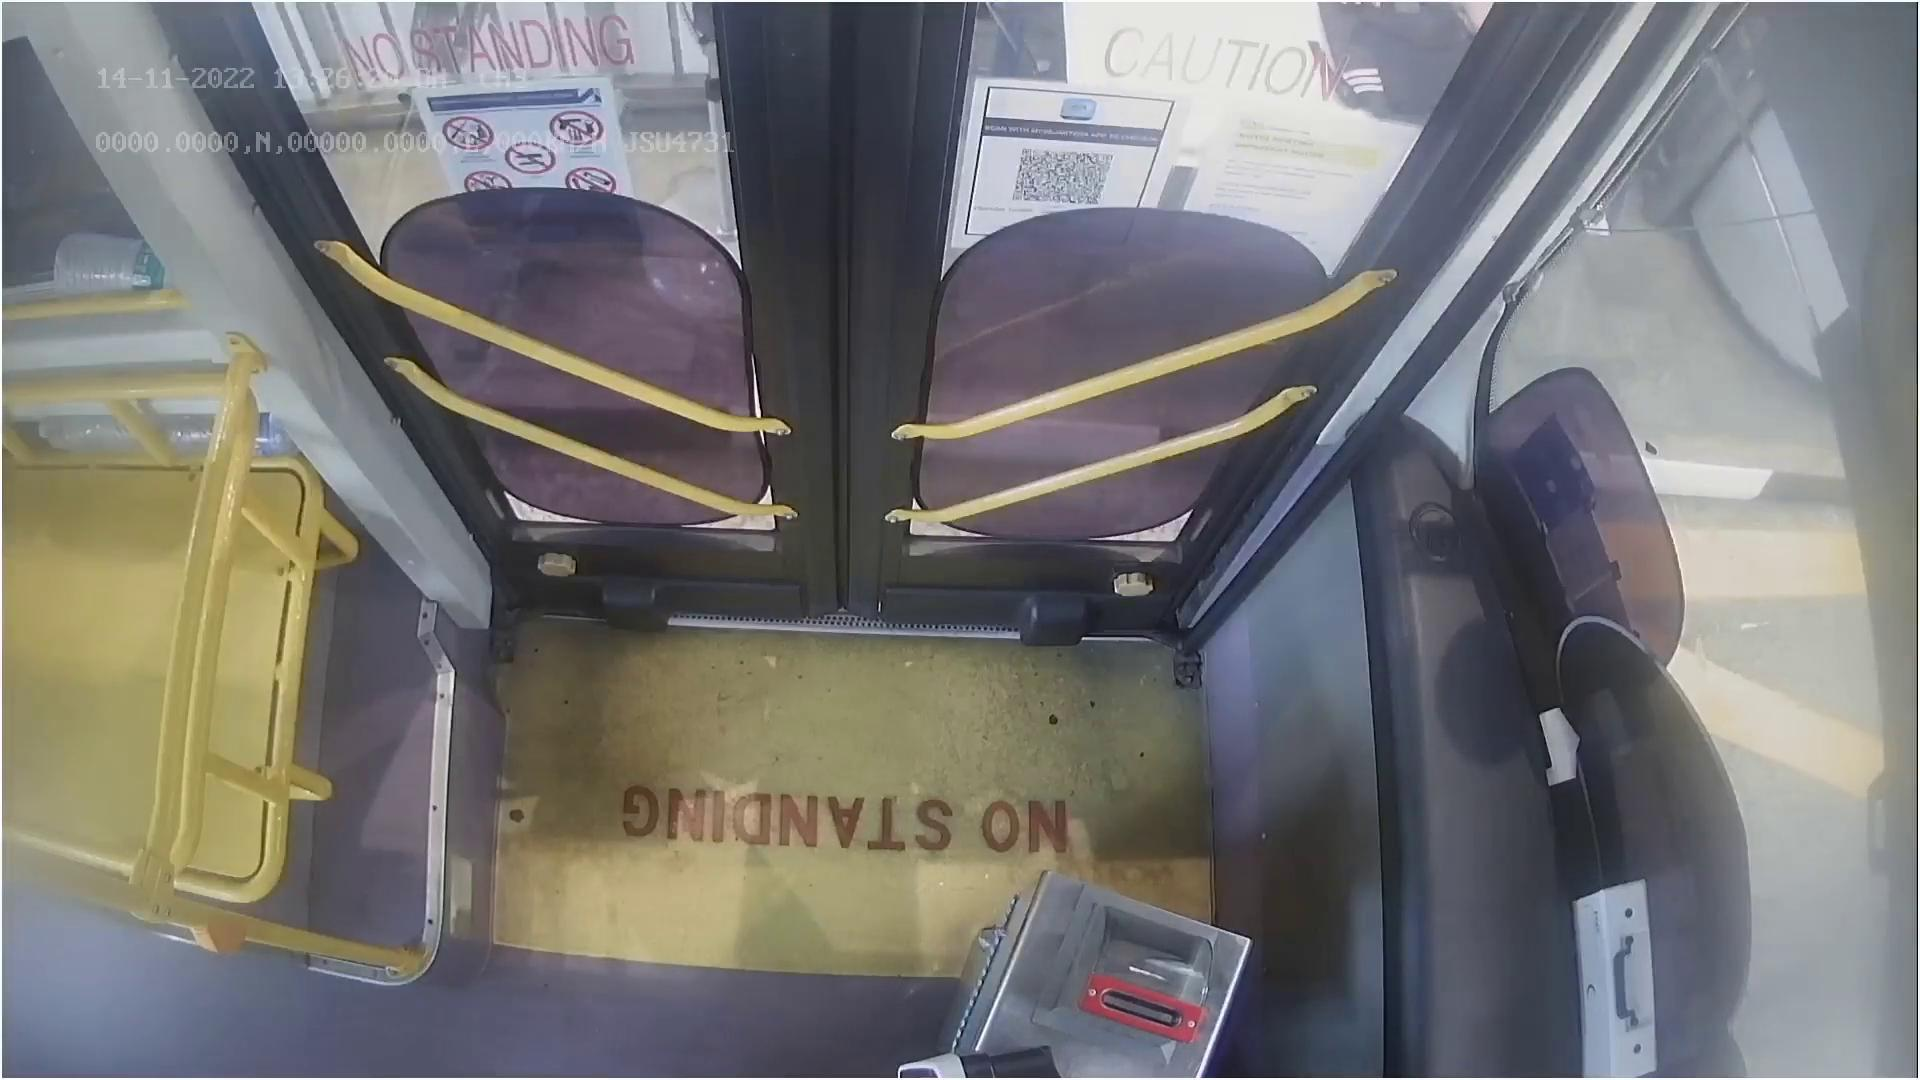close: (289, 0, 1445, 165)
